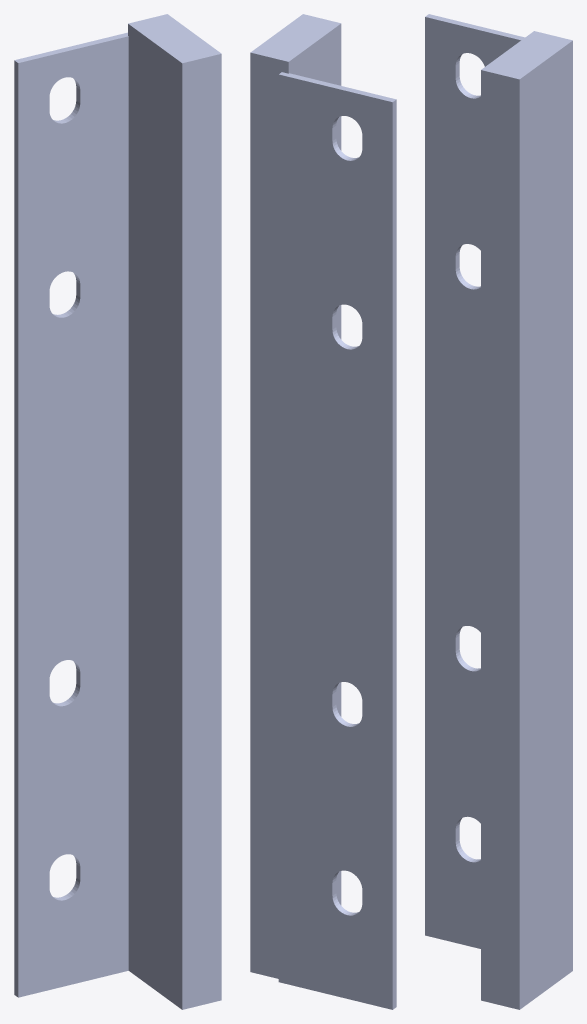
3 views of the same model, side by side, from view 1: azimuth 30°, elevation 25°; view 2: azimuth 150°, elevation 25°; view 3: azimuth 330°, elevation 25° (orthographic). The views are drawn at different scales.
Parts seen in each view (by area): view 1: 41636743; view 2: 41636743; view 3: 41636743.
Boxes of the visible parts, x1=… form: 41636743: x1=14, y1=14, x2=221, y2=1009; 41636743: x1=250, y1=14, x2=396, y2=1009; 41636743: x1=425, y1=14, x2=572, y2=1009.
Bounding box in the file's own units: 0.0258 × 0.156 × 0.0172.
